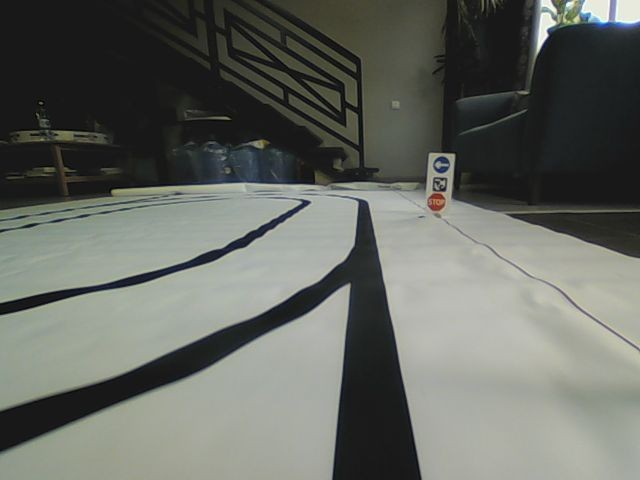Stop: (427, 194, 447, 211)
